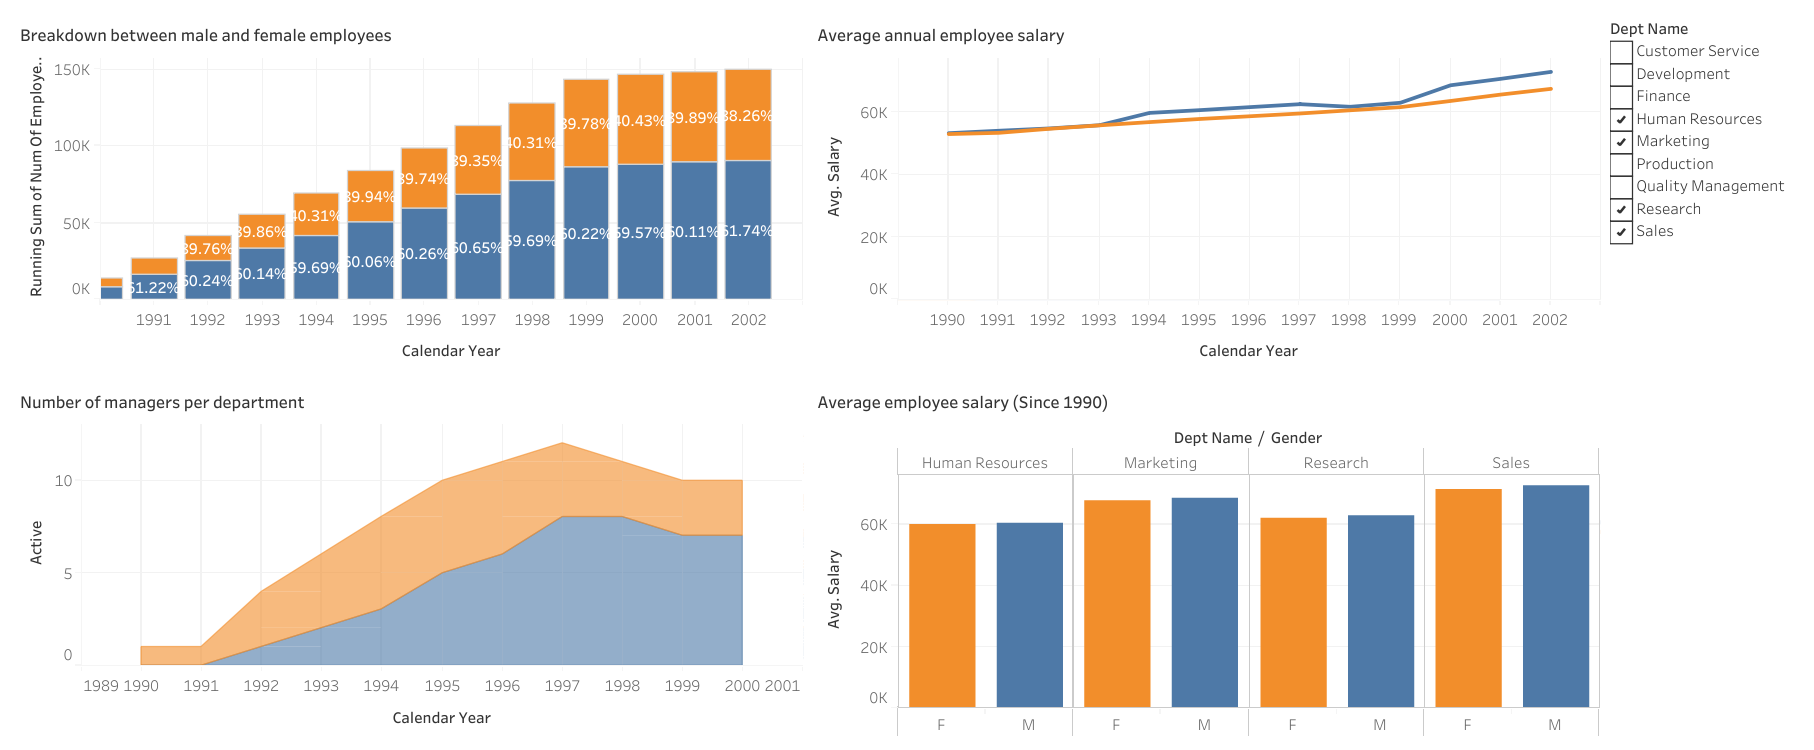

What the dashboard file says about the page in this screenshot:
{"tool":"tableau","page":{"name":"Dashboard 1","canvas":[1000,1000],"units":"permille","ordinal":0},"visuals":[{"type":"worksheet","title":"Chart 1","mark":"Bar","rows":["num_of_employees"],"cols":["calendar_year"],"box":[4.8,9.4,446.9,490.6]},{"type":"worksheet","title":"Chart 3","mark":"Automatic","rows":["salary"],"cols":["calendar_year"],"box":[451.7,9.4,446.9,490.6]},{"type":"filter","title":"Chart 3","param":"[federated.0q2vkie0qyv9fi110p1xf1q9xk7b].[none:dept_name:nk]","box":[898.6,9.4,96.6,312.6]},{"type":"worksheet","title":"Chart 2","mark":"Area","rows":["active"],"cols":["calendar_year"],"box":[4.8,500,446.9,490.6]},{"type":"worksheet","title":"Chart 4","mark":"Automatic","rows":["salary"],"cols":["dept_name","gender"],"box":[451.7,500,446.9,490.6]}]}

Visuals, with their boxes on the dashboard's canvas, which has no fixed pixel size, in thousandths of its width and height (x1, y1, x2, y2). These are canvas units, not pixel positions in the 1814x750 screenshot, which may show the page scaled, cropped or inside an application window:
"Chart 1" worksheet (Bar marks): (x1=5, y1=9, x2=452, y2=500)
"Chart 3" worksheet: (x1=452, y1=9, x2=899, y2=500)
"Chart 3" filter: (x1=899, y1=9, x2=995, y2=322)
"Chart 2" worksheet (Area marks): (x1=5, y1=500, x2=452, y2=991)
"Chart 4" worksheet: (x1=452, y1=500, x2=899, y2=991)
